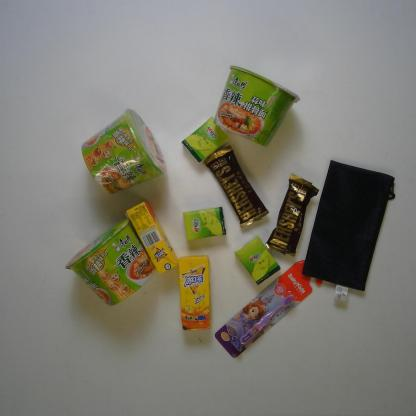Chocolate: (203, 144, 271, 229), (264, 171, 320, 260)
Drink: (126, 200, 183, 276), (178, 253, 214, 333)
Instant Noodles: (63, 216, 157, 310), (79, 106, 168, 196), (211, 62, 301, 148)
Personal Hygiene: (212, 258, 325, 361)
Stationery: (301, 158, 395, 304)
Tissue: (180, 116, 233, 166), (234, 234, 281, 287), (180, 206, 226, 244)
